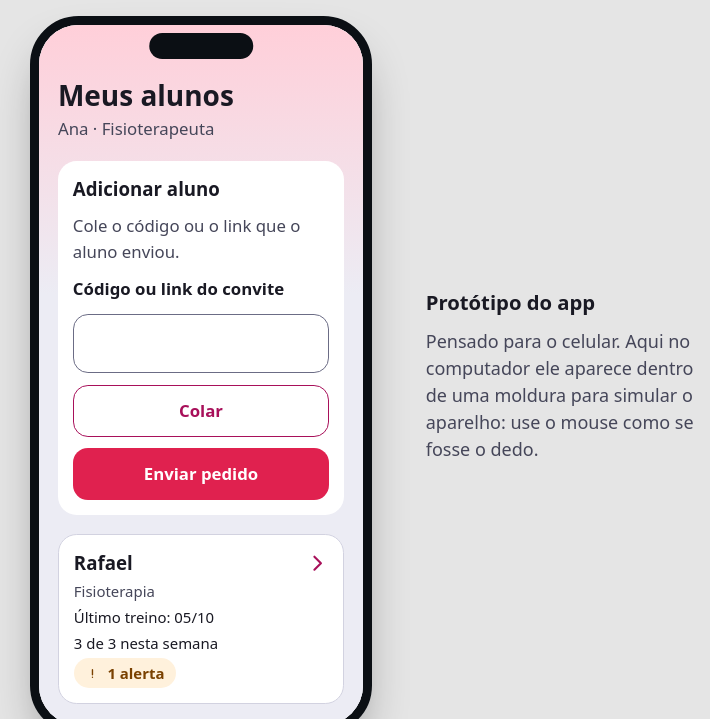
botão Colar › se a área de transferência não tem um código, avisa em vez de limpar o campo em silêncio
Click the button "Colar".
click(201, 411)  # box [73, 385, 329, 437]
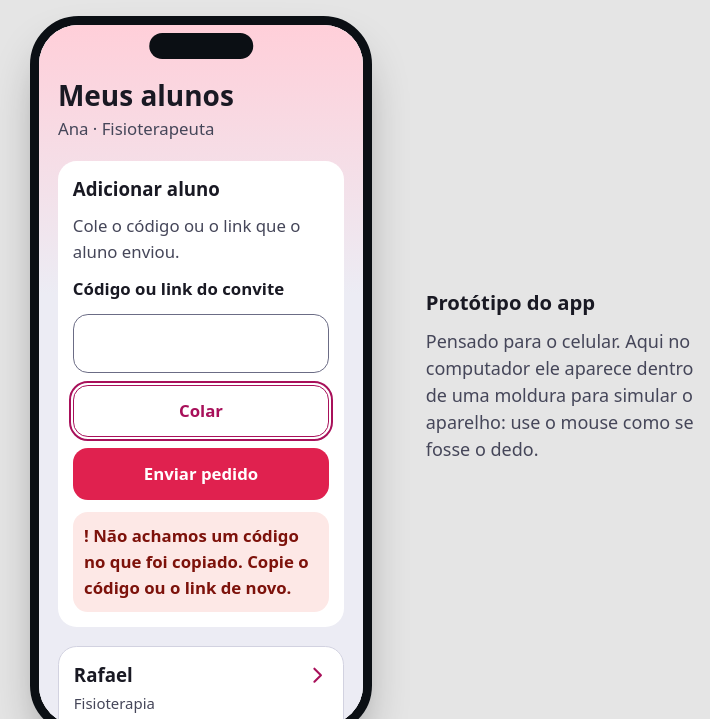
Check: the message shows "Não achamos um código", box [84, 524, 309, 599]
